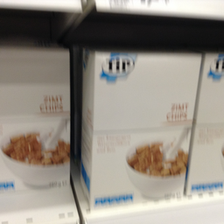cereal: (81, 48, 205, 210), (1, 48, 70, 210)
